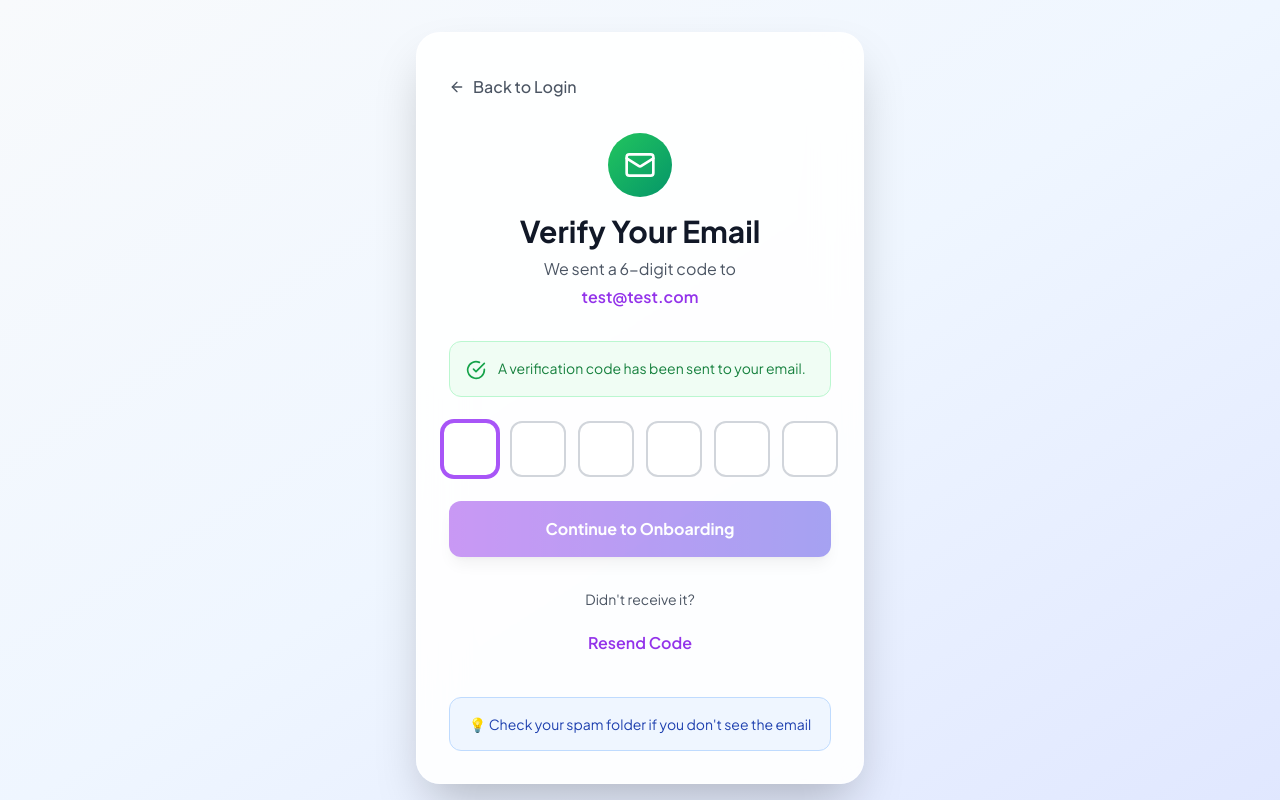
Scenario: OTPVerificationPage › resend OTP › resends OTP and clears inputs
# Fill some digits first
Type "1" into the field with id "otp-0" at (470, 449), box [442,421,498,477]
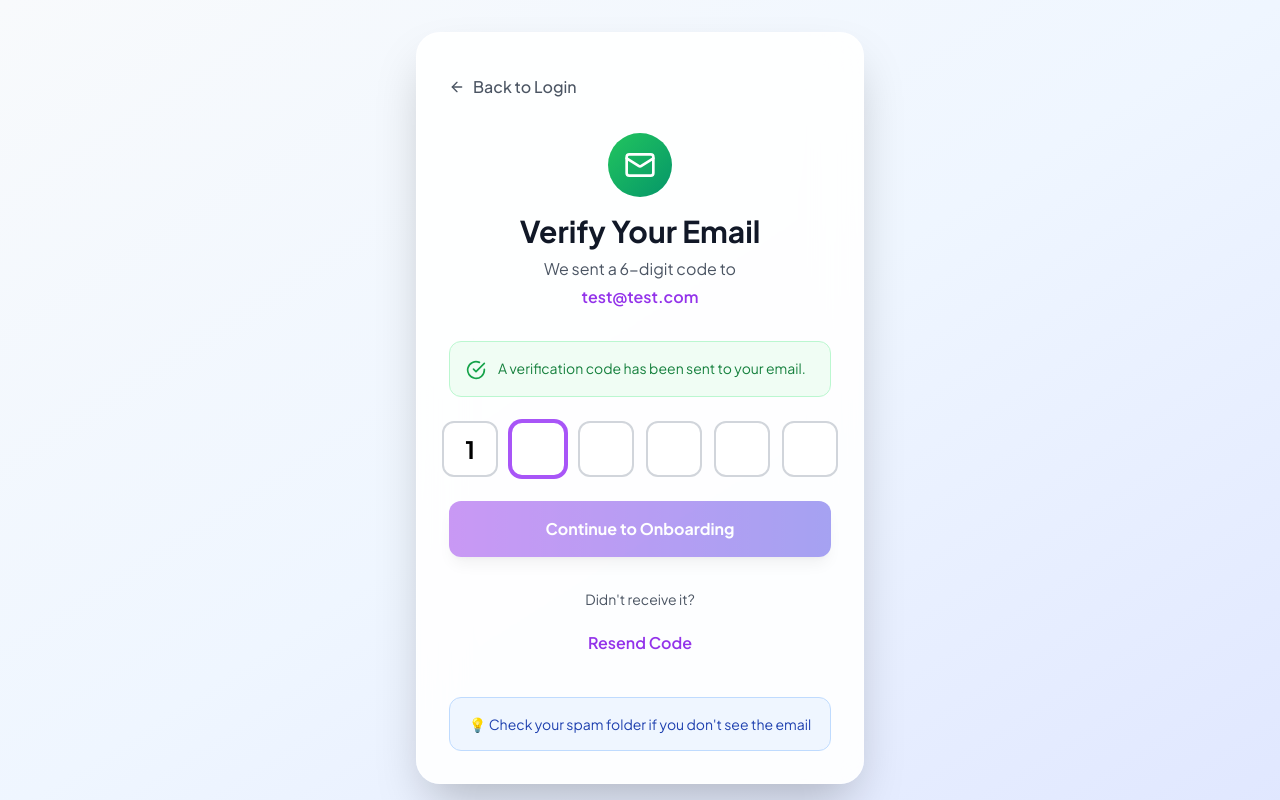
Type "2" into the field with id "otp-1" at (538, 449), box [510,421,566,477]
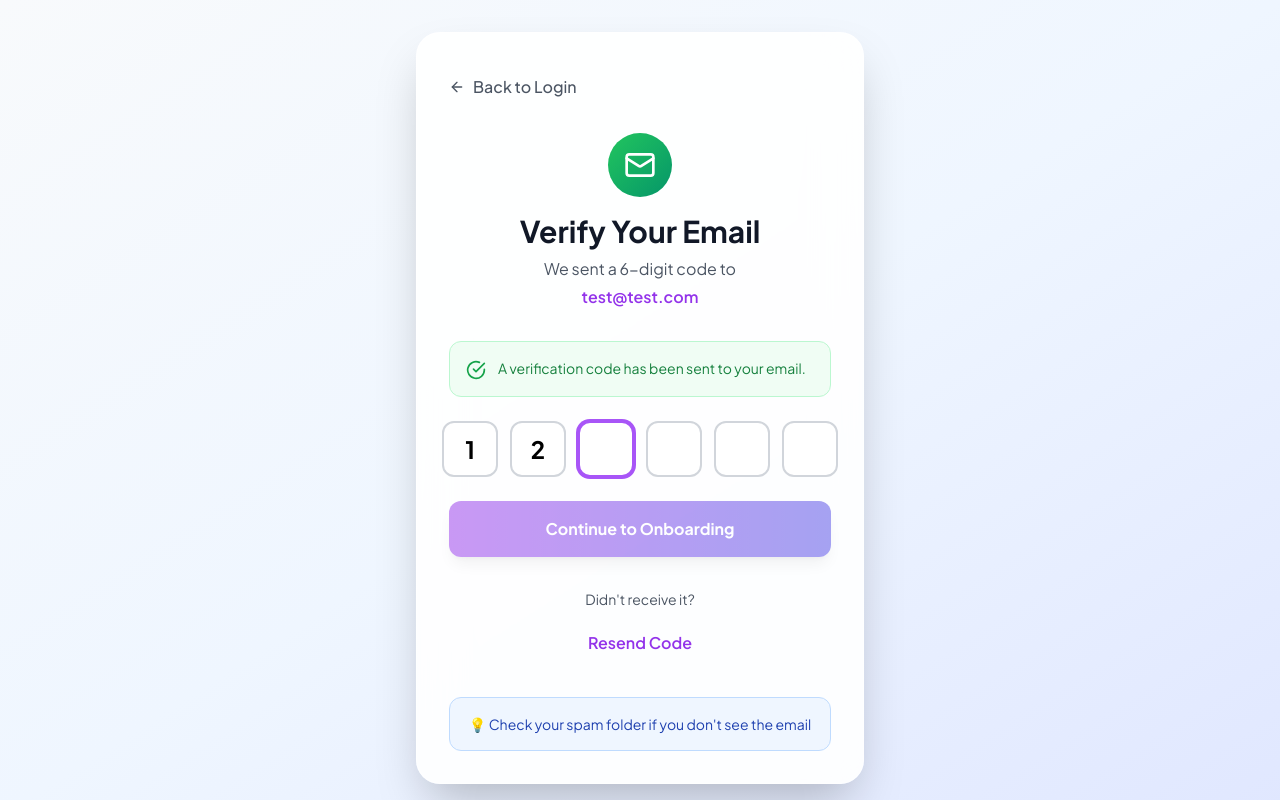
Click the button "Resend Code" at (640, 643), box [572,621,708,665]
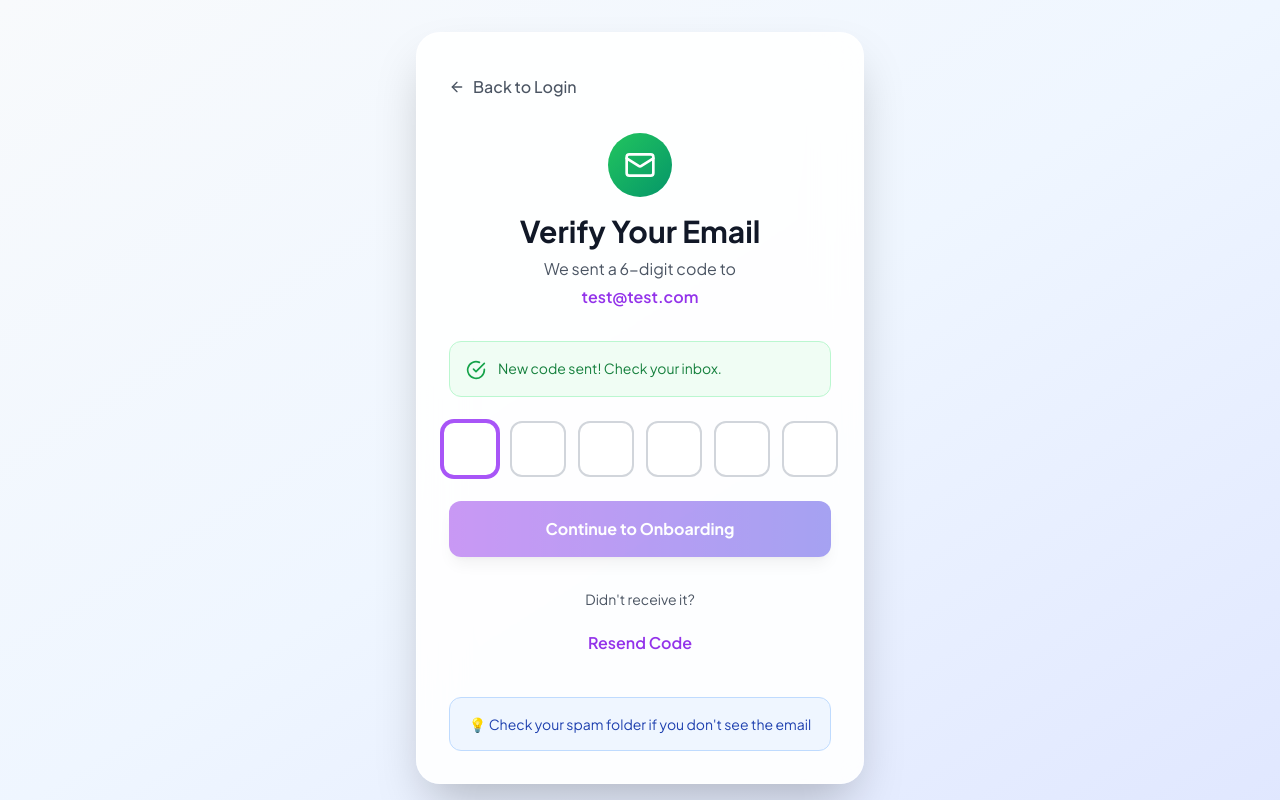
Expected: the text "New code sent! Check your inbox." is shown, [498,358,722,378]
Expected: the field with id "otp-0" is empty, [442,421,498,477]
Expected: the field with id "otp-1" is empty, [510,421,566,477]
